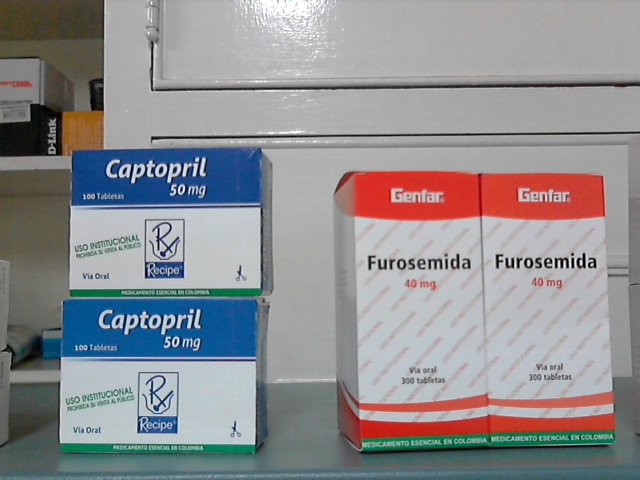Genfar: (355, 172, 490, 447), (481, 175, 615, 445)
